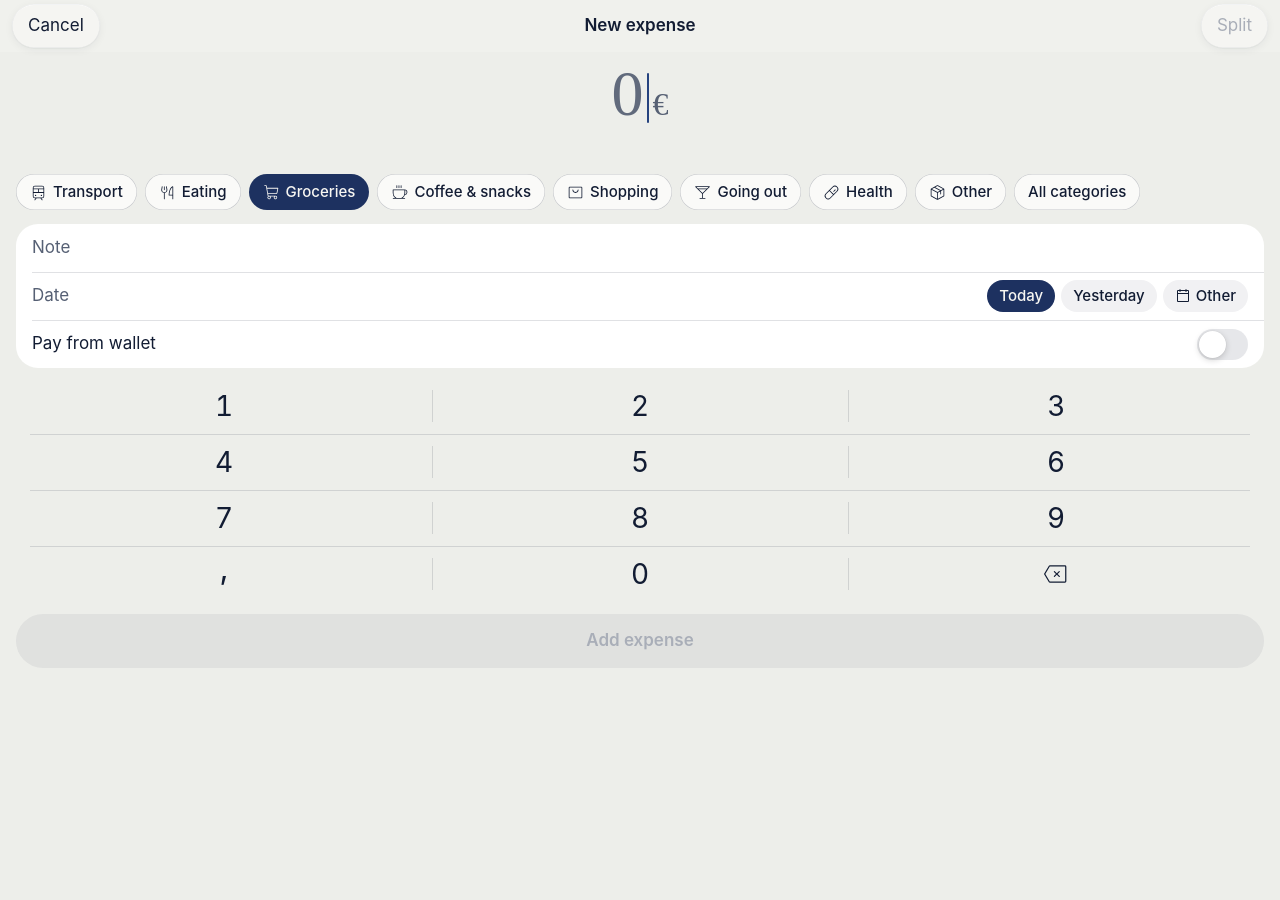
Test case: splitting the bill (§3.16, EXTRAS.md §2.1 to §2.4) › removes a row left without a name
Click the button with test id "keypad-1": (224, 406) [16,378,432,434]
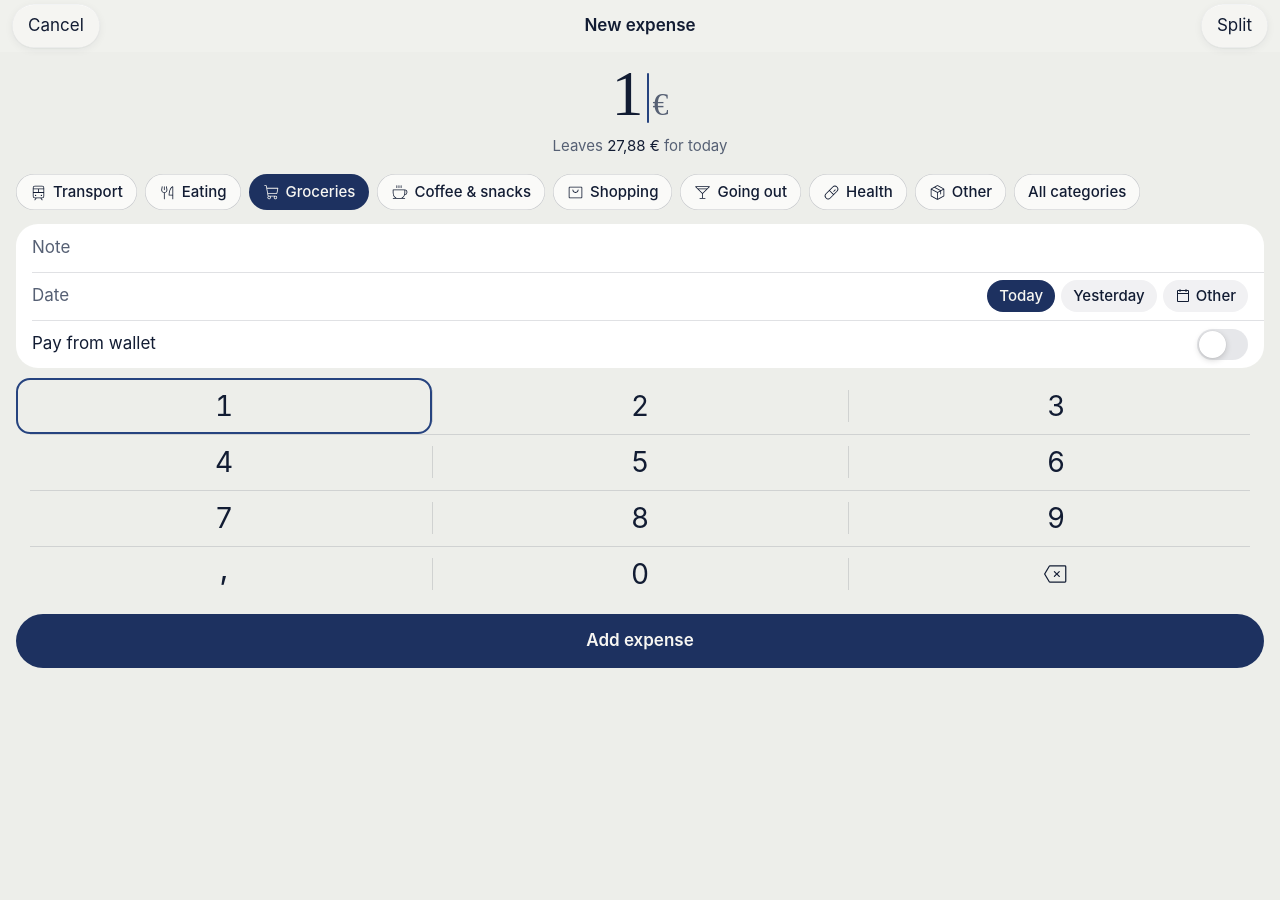
Click the button with test id "keypad-0": (640, 574) [432,546,848,602]
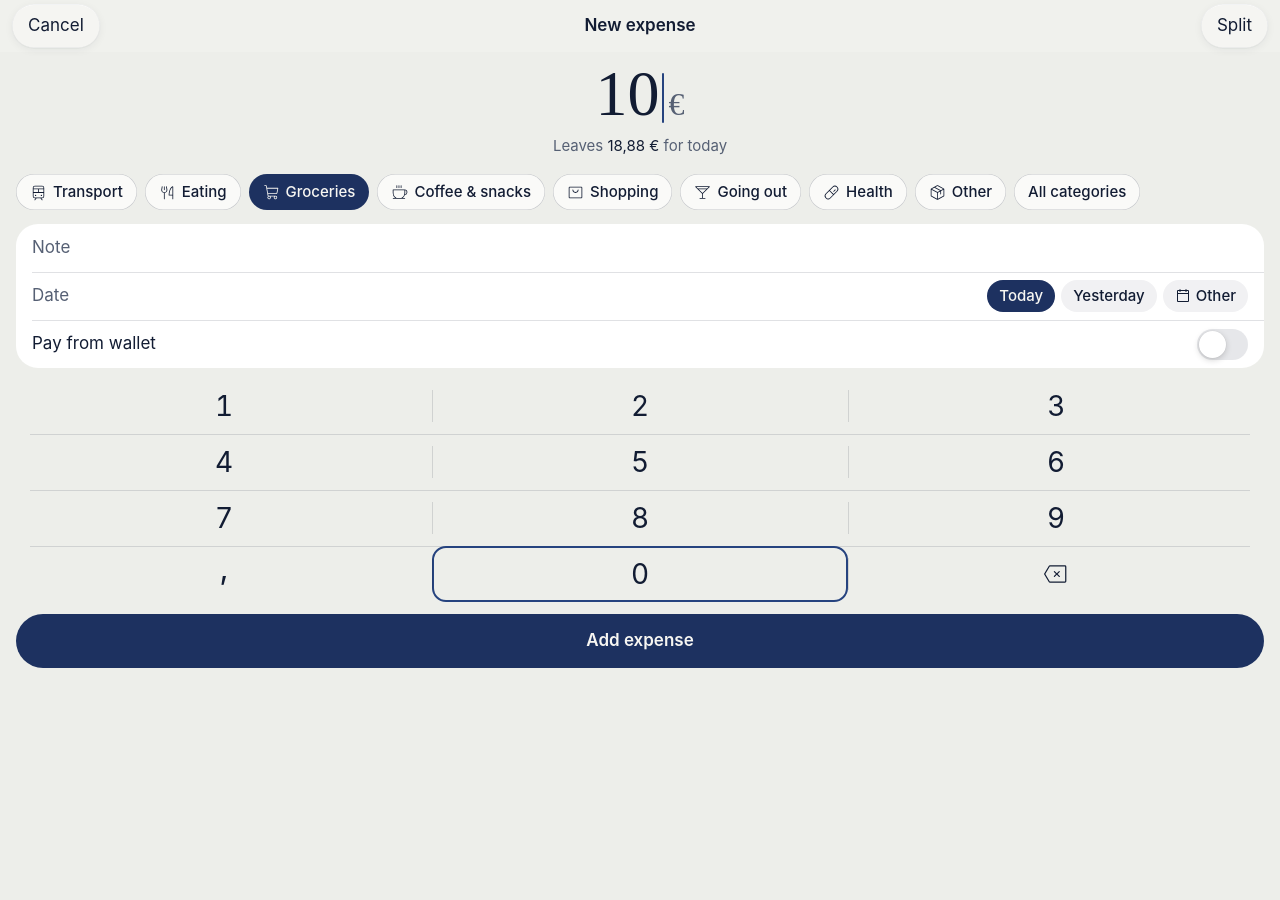
Click the button with test id "split-toggle": (1234, 26) [1201,4,1268,48]
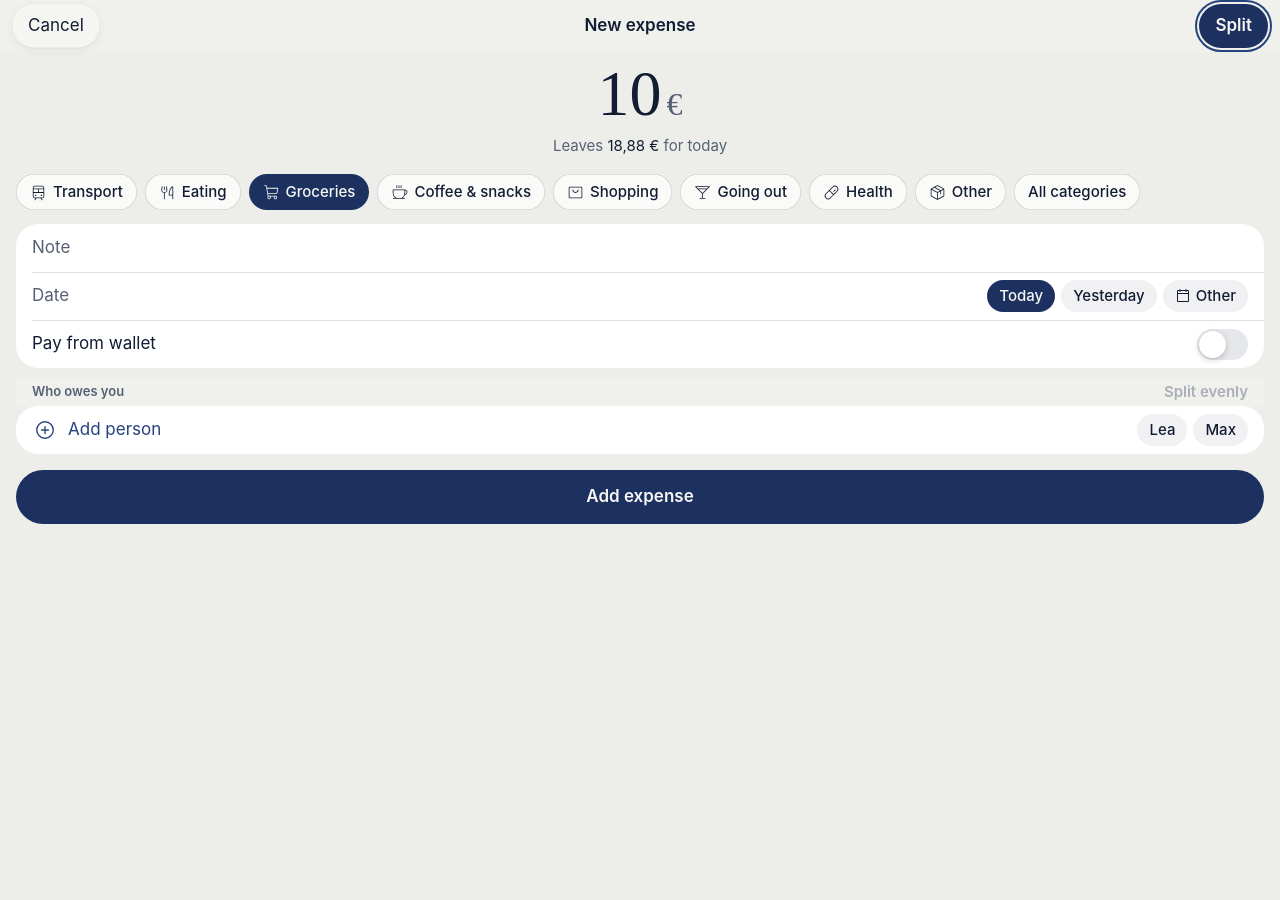
Click the button "Add person": (115, 429) [32,408,1128,452]
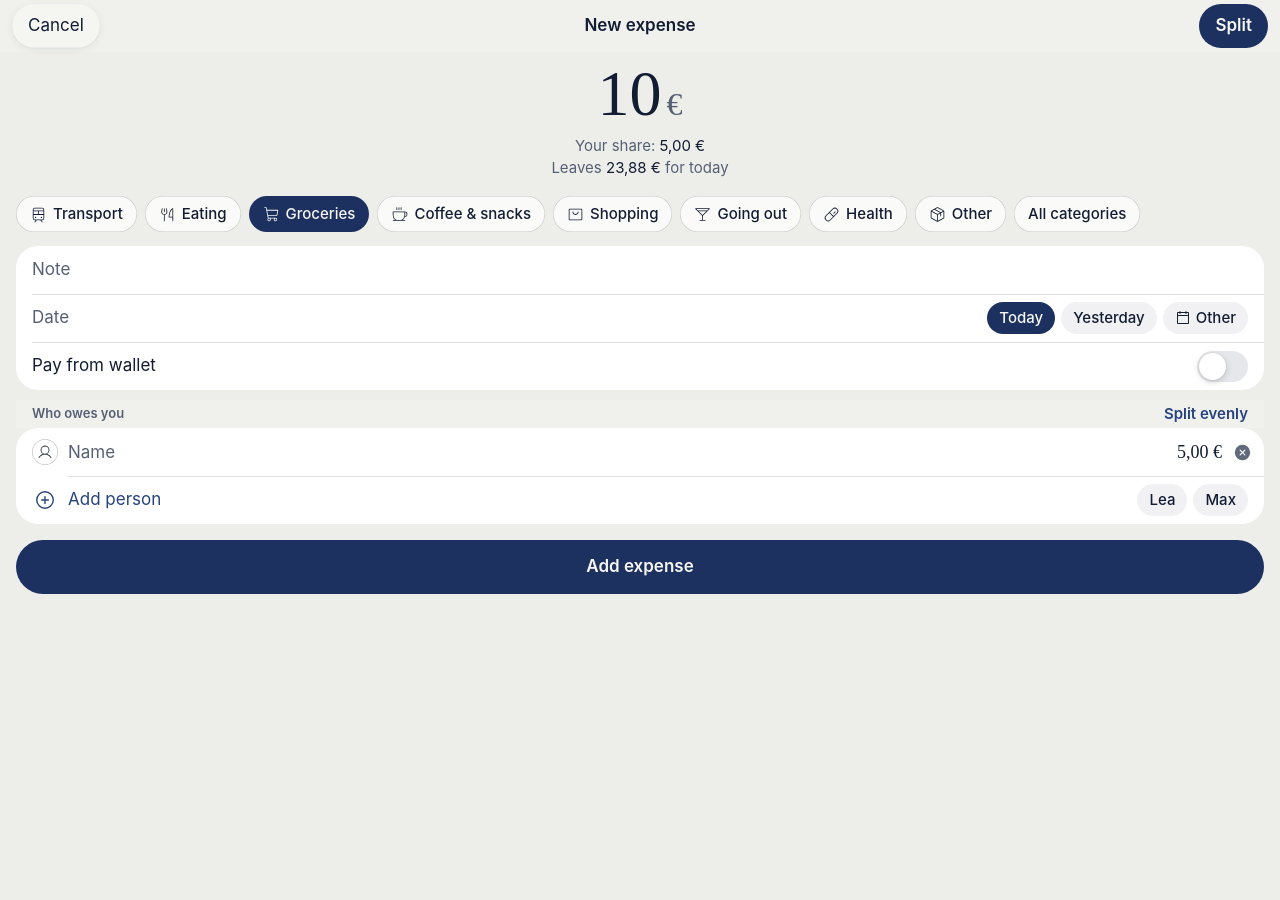
Check: the number of elements with test id "split-person" is 1, box [16,428,1264,476]
Click the button "Split evenly": (1206, 414) [1148,400,1264,428]
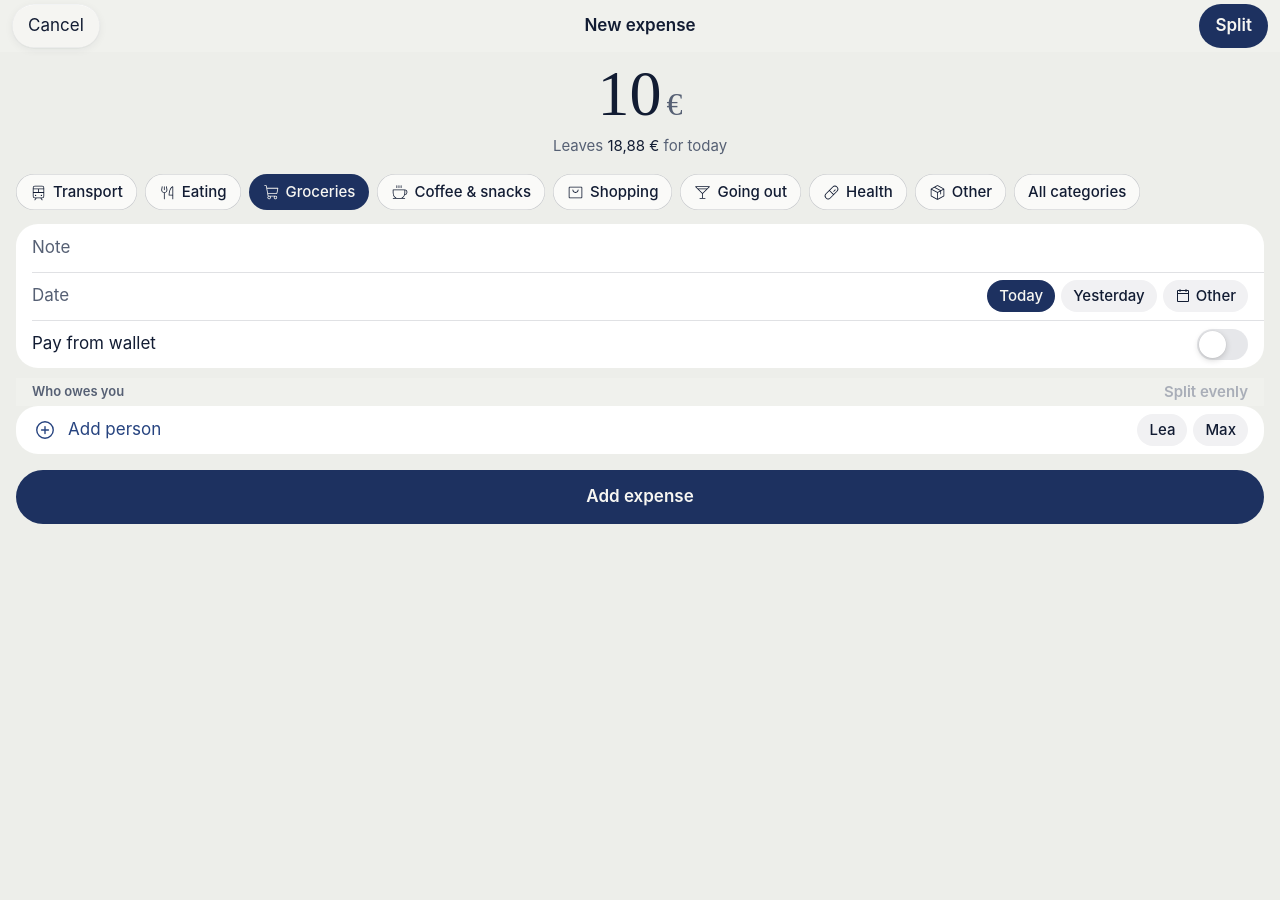
Check: no elements with test id "split-person" are shown
